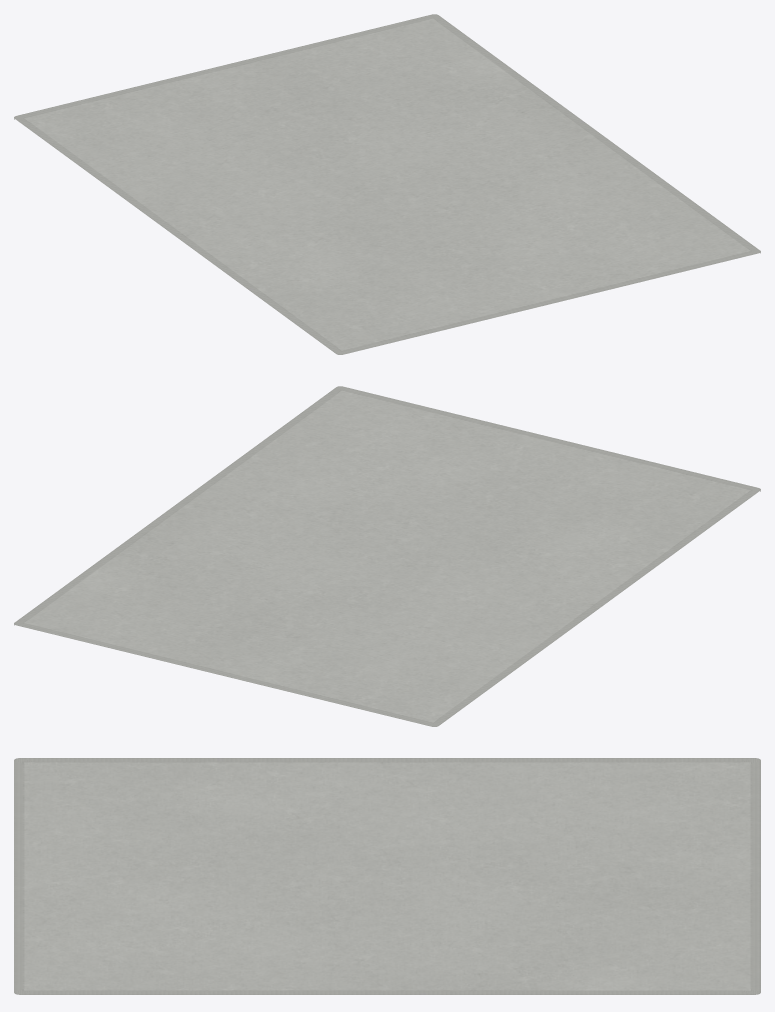
Rendered from gray_M.glb.
3 views of the same model, one above another, from view 1: azimuth 30°, elevation 25°; view 2: azimuth 150°, elevation 25°; view 3: azimuth 270°, elevation 25° (orthographic). The views are drawn at different scales.
Visible parts, largest first — view 1: reliv_gray_M; view 2: reliv_gray_M; view 3: reliv_gray_M.
Boxes of the visible parts, <box> form: reliv_gray_M: <box>14,14,760,354</box>; reliv_gray_M: <box>14,386,760,726</box>; reliv_gray_M: <box>14,758,760,994</box>.
Size of the model in its own units: 1.5 by 0.009 by 2.
2 materials, 1 textured.
